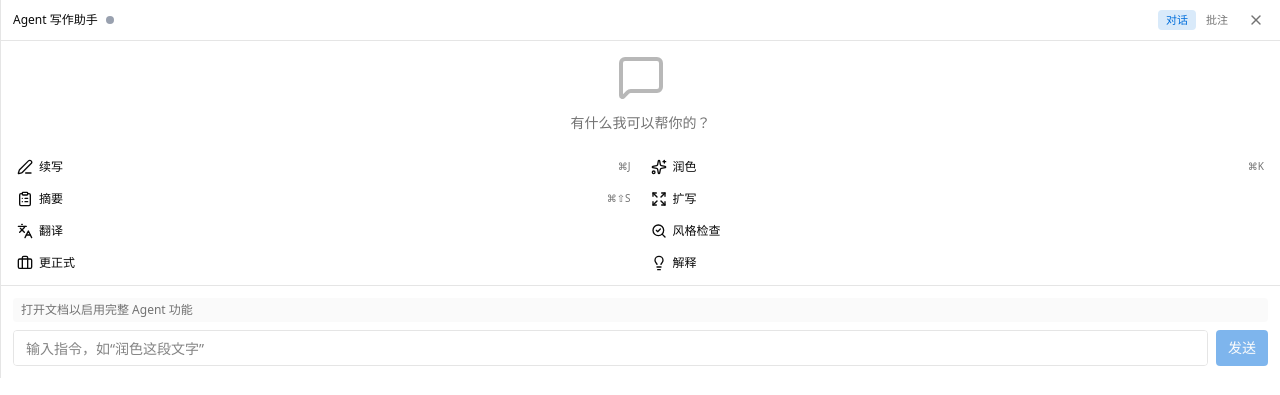
AgentSidebar › 阶段2：QuickActions 集成 › 批注 Tab 不显示 QuickActions
Click the button "批注". click: (1217, 20)
box: [1198,10,1236,30]
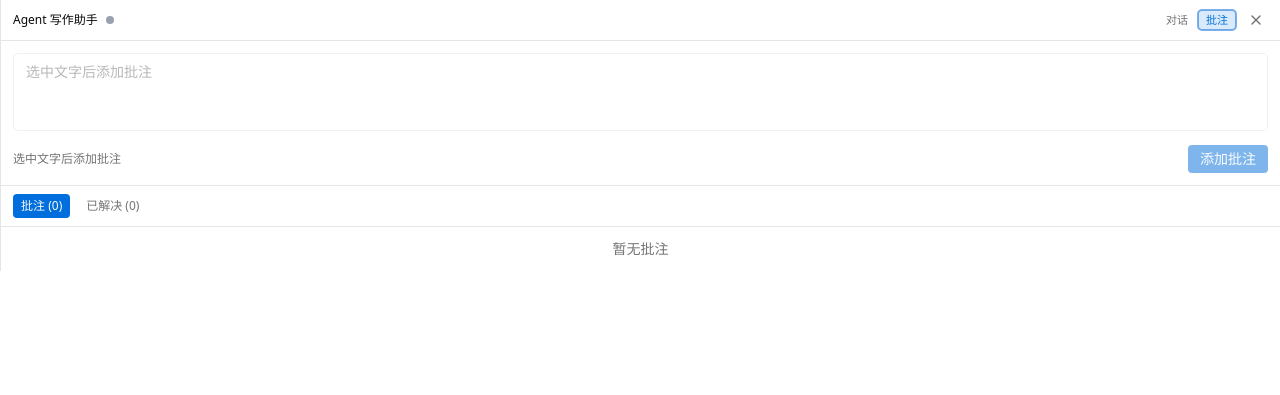
Result: the button "续写" is gone
